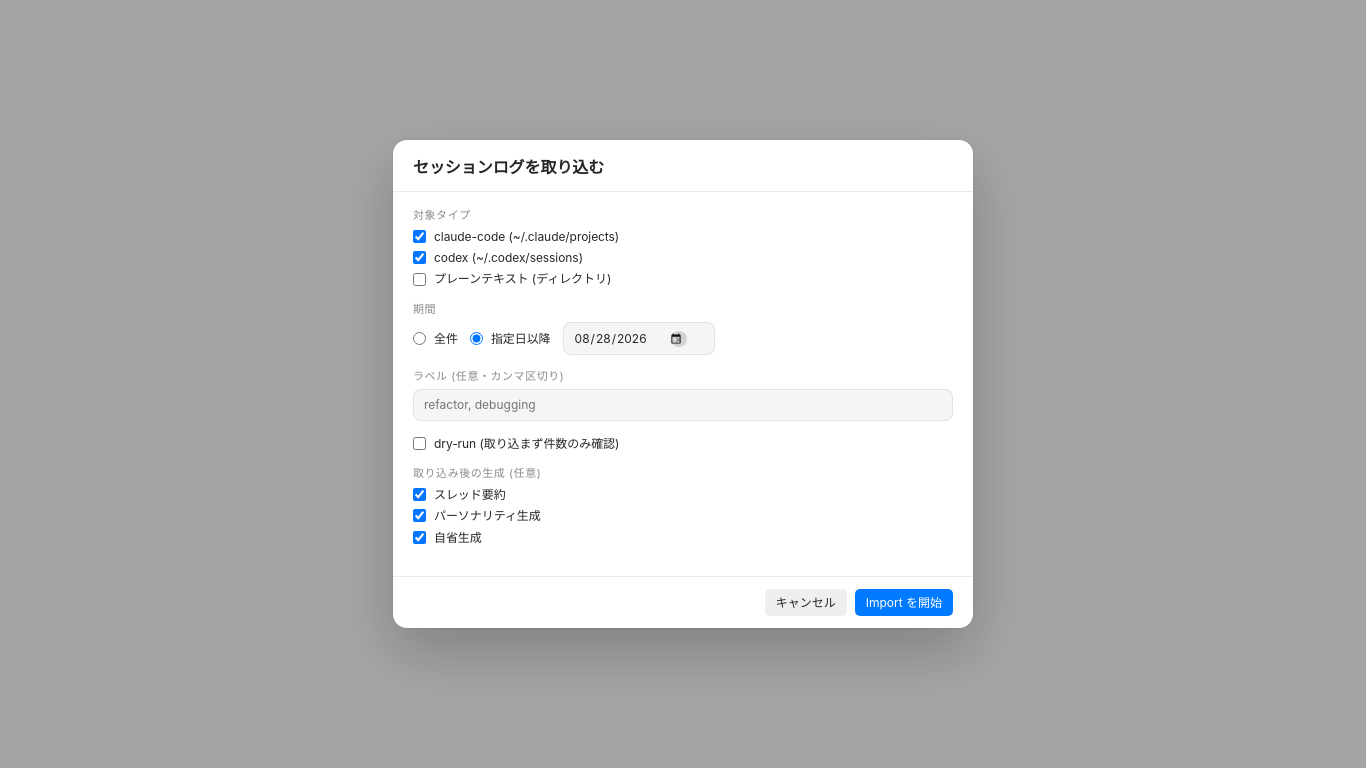
Test: ImportDialog plain source › blocks submit with an invalid source name
The width and height of the screenshot is (1366, 768).
Click the checkbox labelled "プレーンテキスト (ディレクトリ)" at [420, 279], box [413,273,426,286]
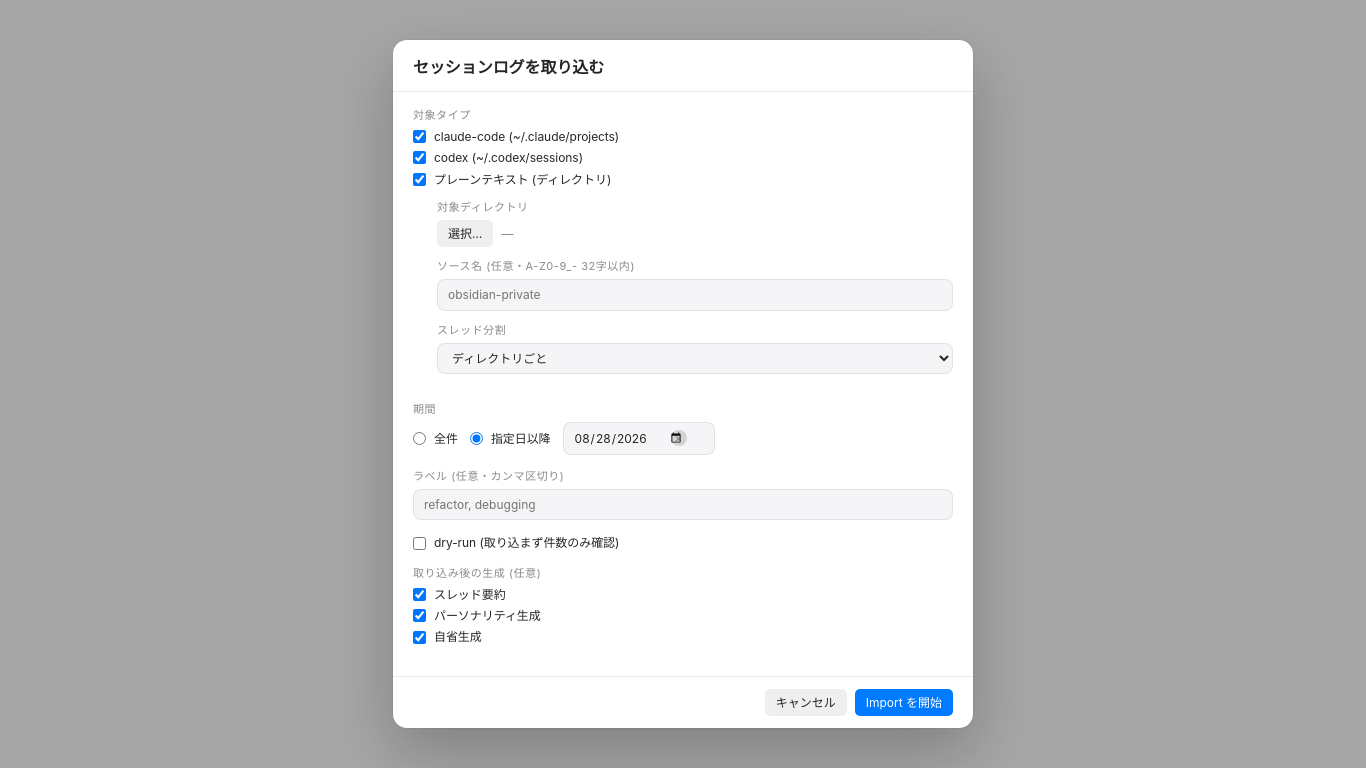
Click the button "選択…" at [465, 234], box [437,220,493,247]
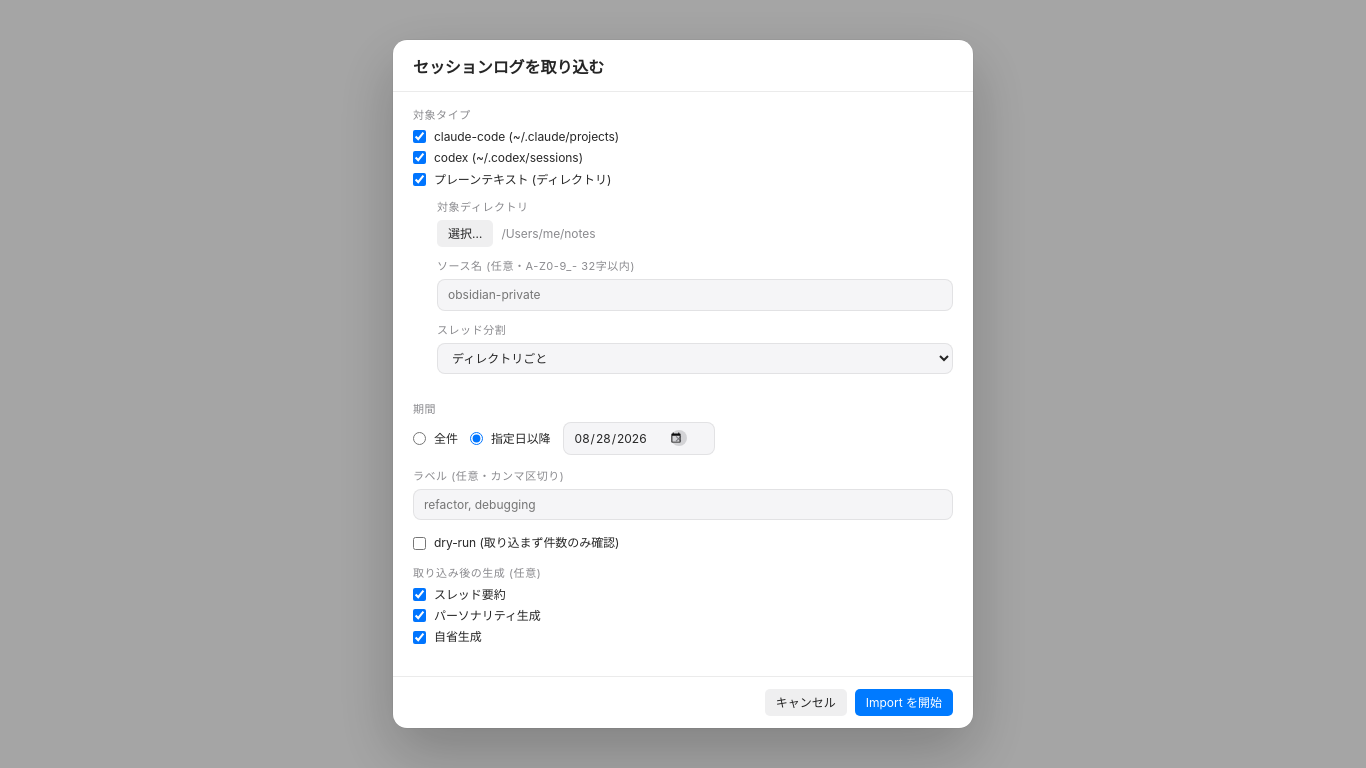
expect the text "/Users/me/notes" is shown: met, box [501,225,595,242]
Type "Bad Name" into the field with placeholder "obsidian-private" at [695, 295], box [437,279,953,311]
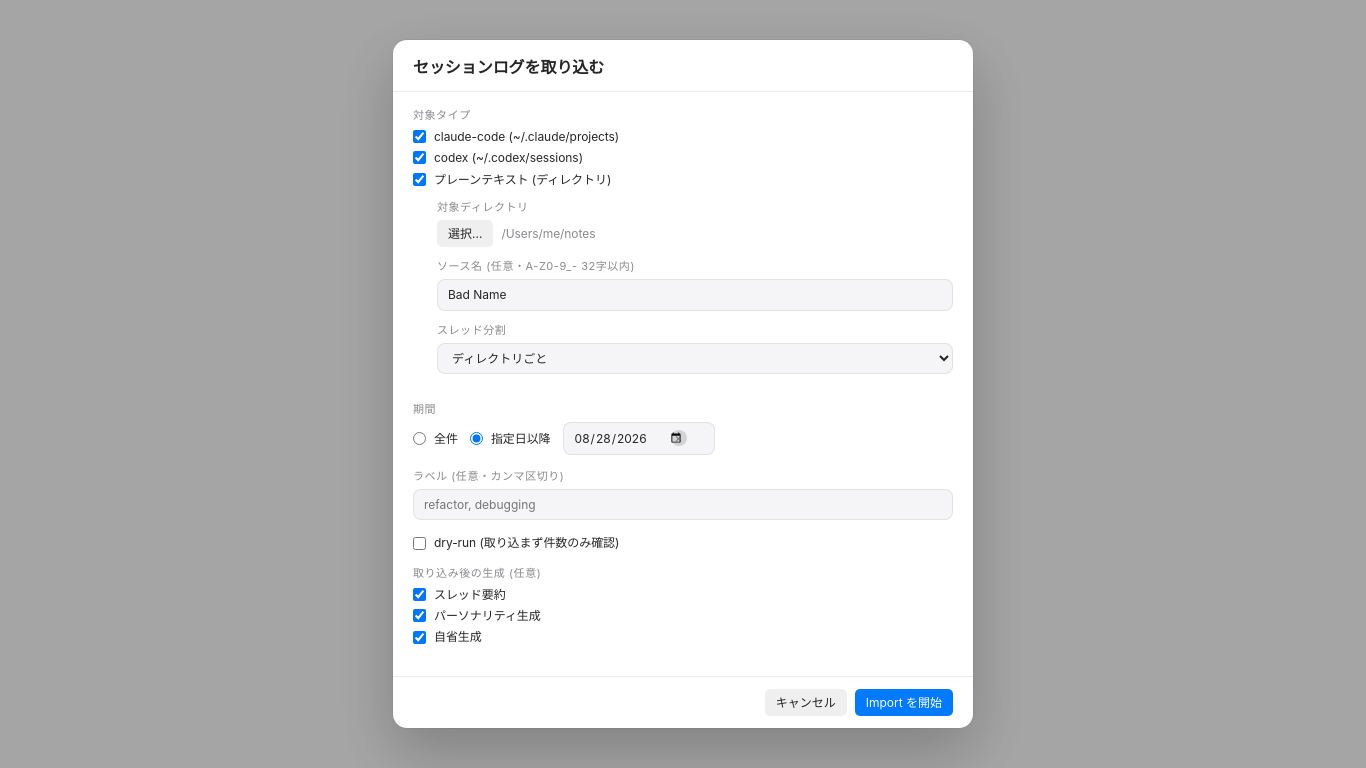
Click the button "Import を開始" at [904, 702], box [855,689,953,716]
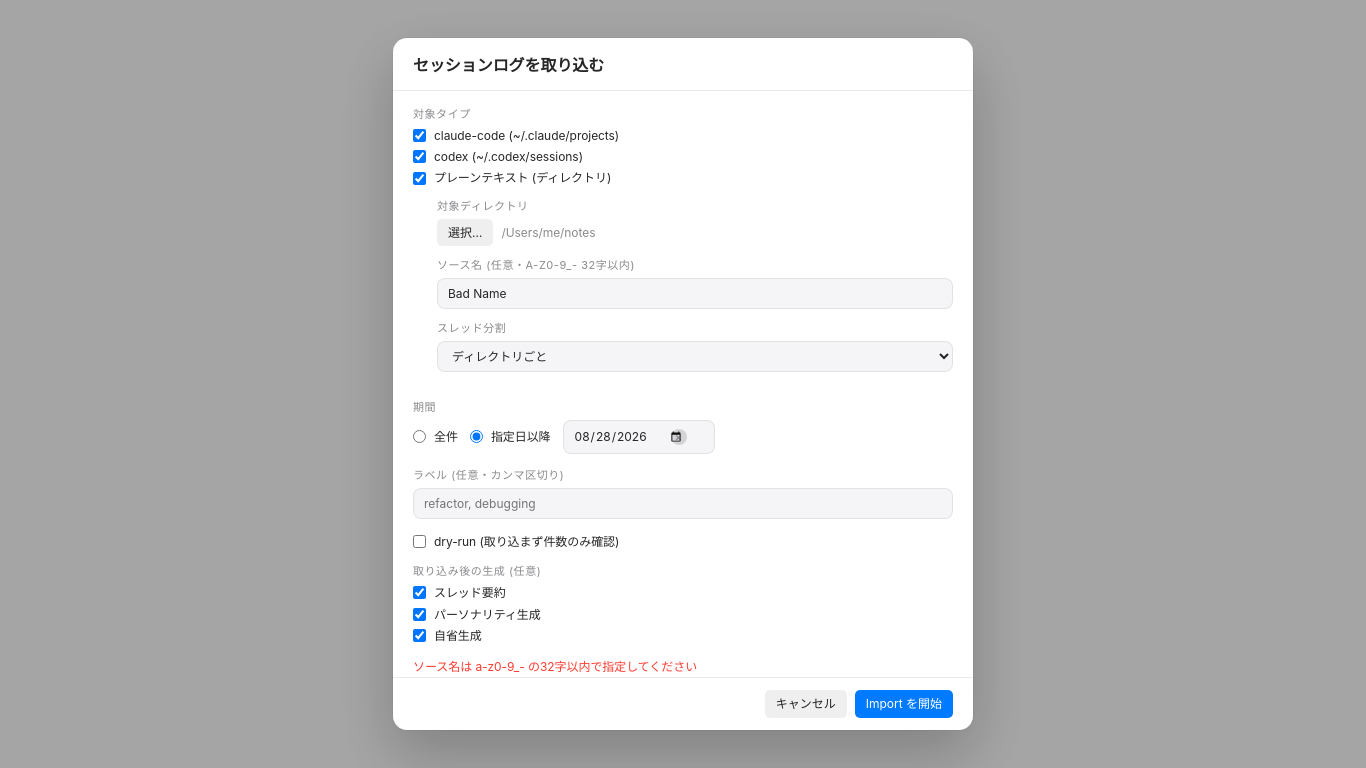
expect the text "ソース名は a-z0-9_- の32字以内で指定してください" is shown: met, box [413,660,697,674]
